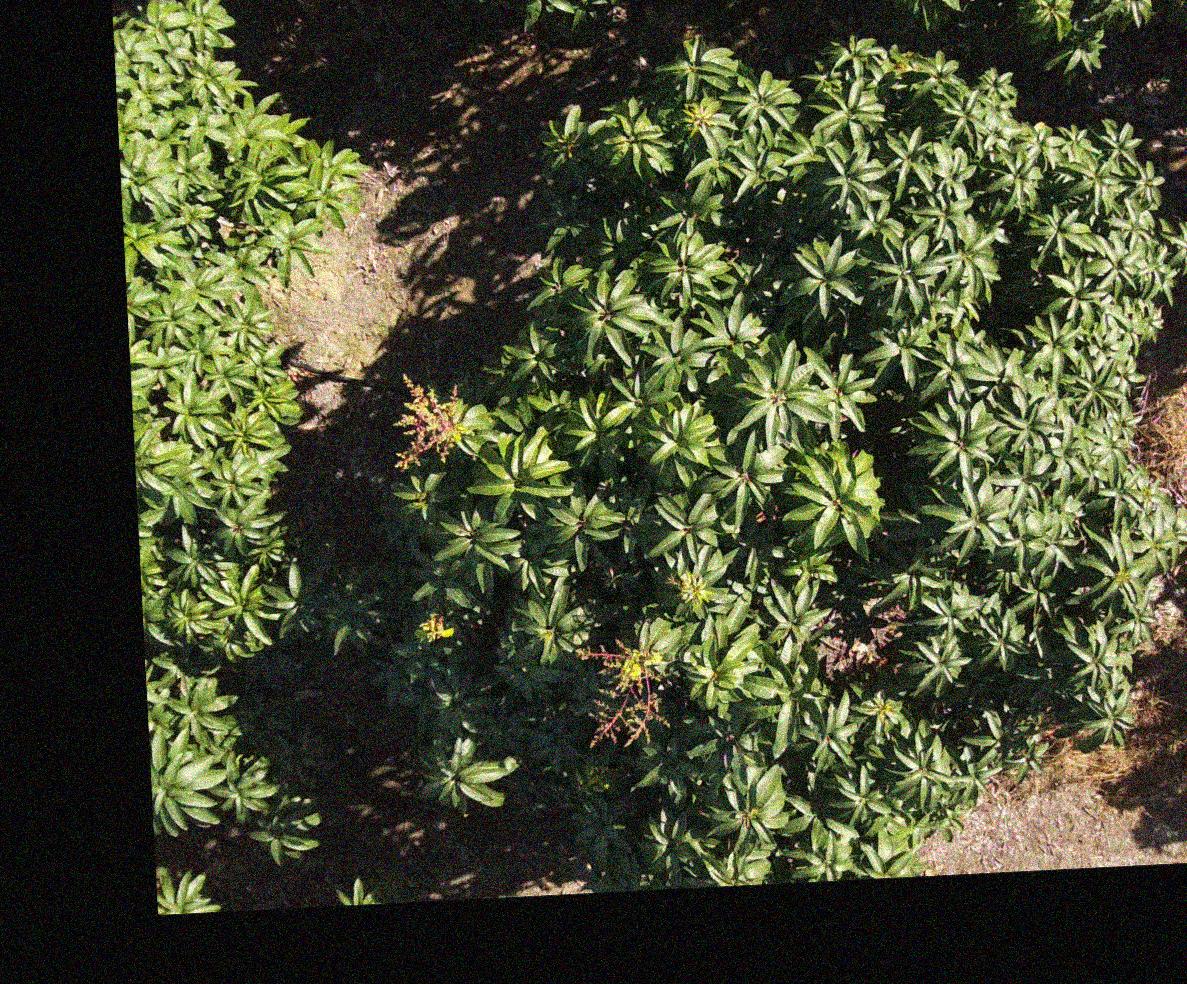flowers: (580, 640, 667, 746), (392, 373, 463, 468), (415, 612, 454, 643), (755, 510, 767, 523)
